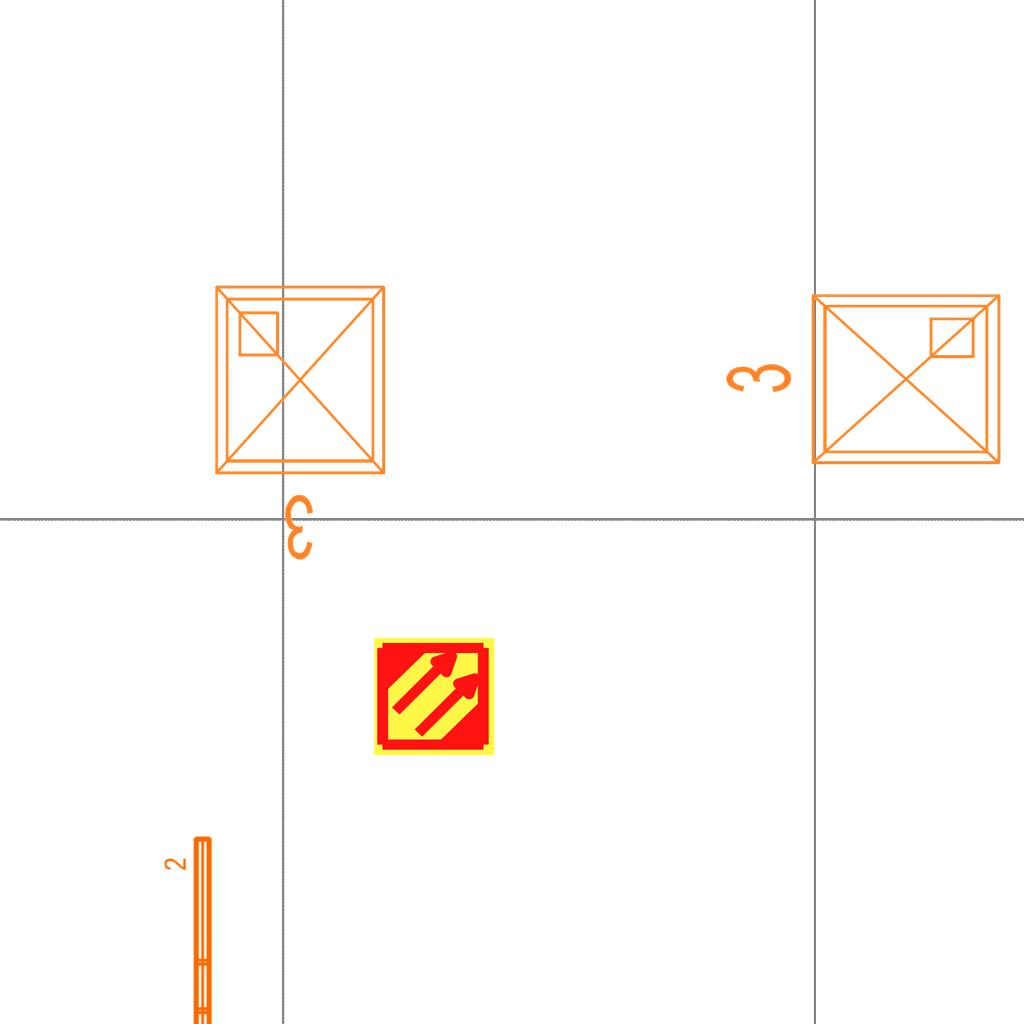ASR_Ansaugrauchmelder: (372, 634, 497, 759)
Ambulanz_Pendelleuchte_LED: (162, 832, 218, 1024)
Einbaudownlights_LED_Konferenzraeume: (200, 271, 408, 571), (715, 279, 1015, 487)
